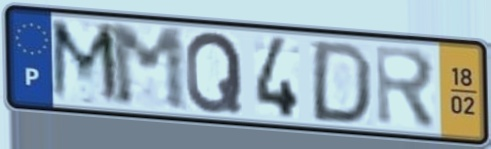4: (253, 34, 303, 122)
D: (307, 38, 375, 127)
M: (106, 23, 192, 114), (47, 16, 125, 110)
Q: (183, 29, 246, 116)
R: (372, 41, 439, 134)
